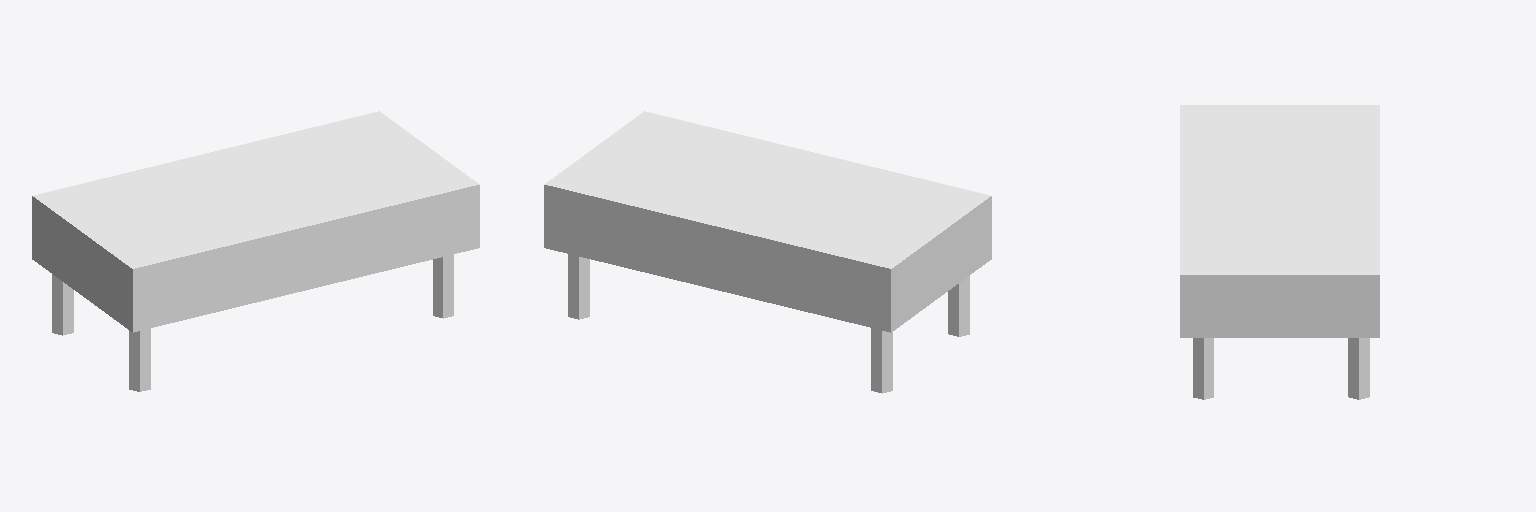
Rendered from Ottoman.obj.
3 views of the same model, side by side, from view 1: azimuth 30°, elevation 25°; view 2: azimuth 150°, elevation 25°; view 3: azimuth 270°, elevation 25° (orthographic).
Visible parts, largest first — view 1: Ottoman; view 2: Ottoman; view 3: Ottoman.
Part boxes in pixels (bbox=[...]): Ottoman: bbox=[32, 111, 479, 391]; Ottoman: bbox=[544, 111, 991, 393]; Ottoman: bbox=[1180, 105, 1379, 399].
Size of the model in its own units: 1.6 by 0.58 by 0.8.